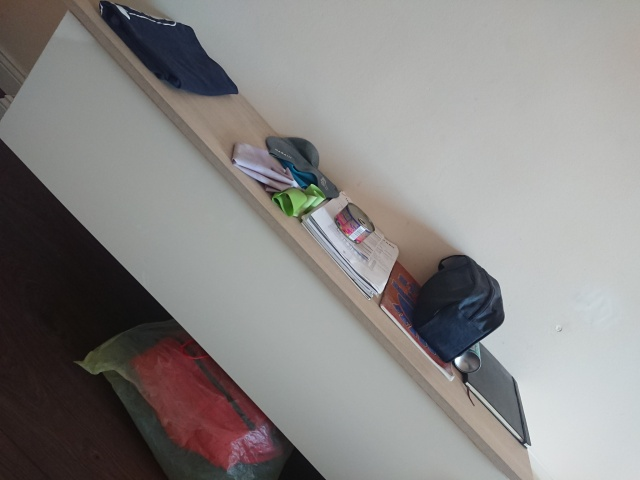Giana Tuna Salad Mexico 185g: (332, 200, 377, 246)
